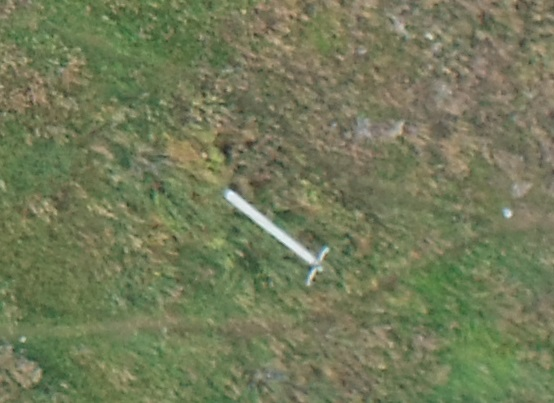opora: (223, 186, 332, 288)
